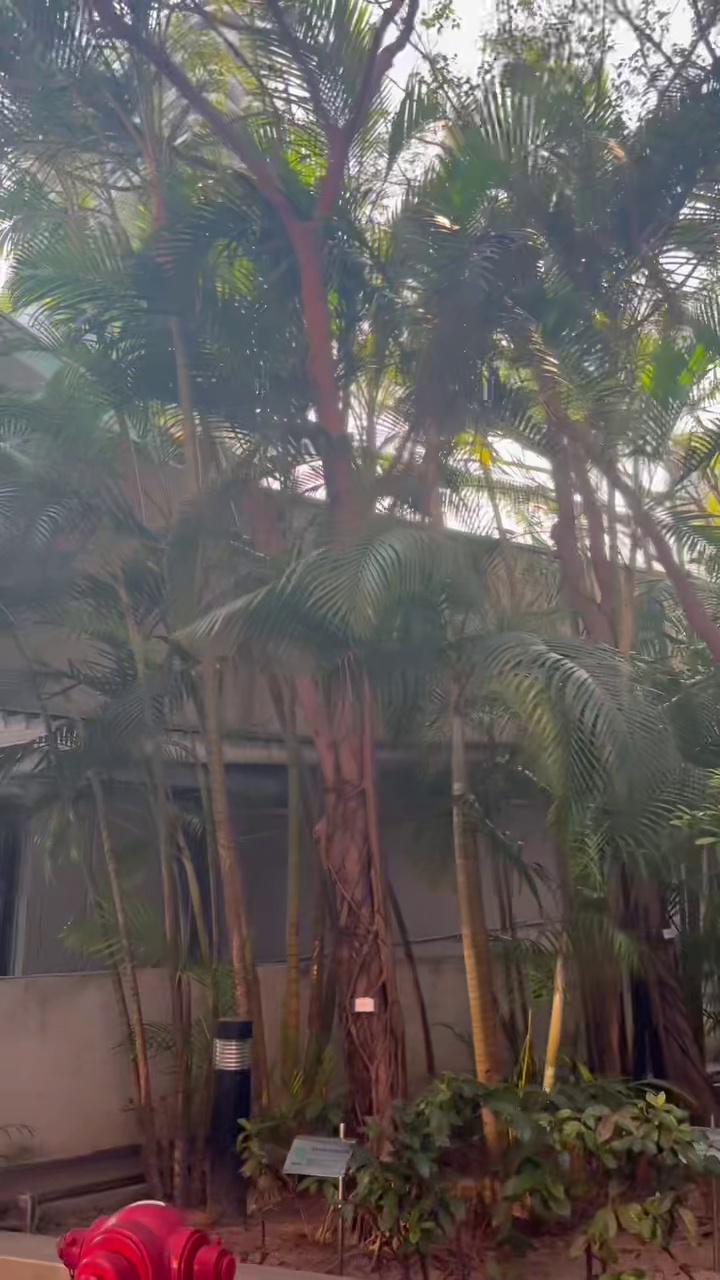Ficus benjamina: (90, 0, 431, 1120)
